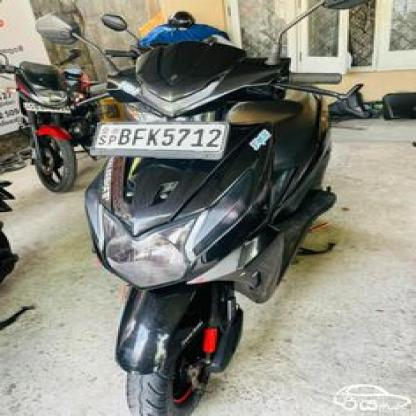bike front: (38, 0, 380, 416)
number plate: (93, 126, 220, 150)
